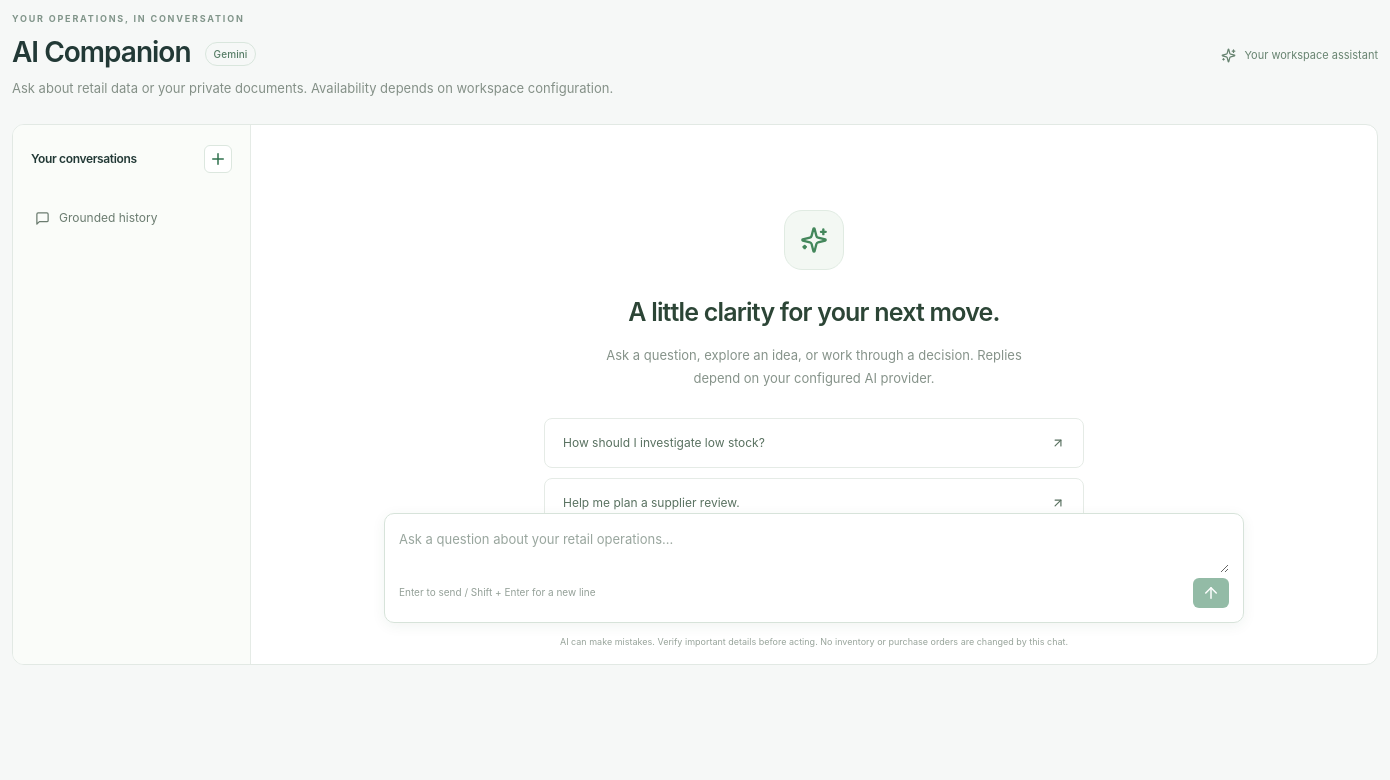
Test case: assistant stream recovery › renders persisted source excerpts and actual backend tool trace metadata
The image size is (1390, 780).
Click the button "Grounded history".
click(132, 218)  # box [25, 197, 238, 239]
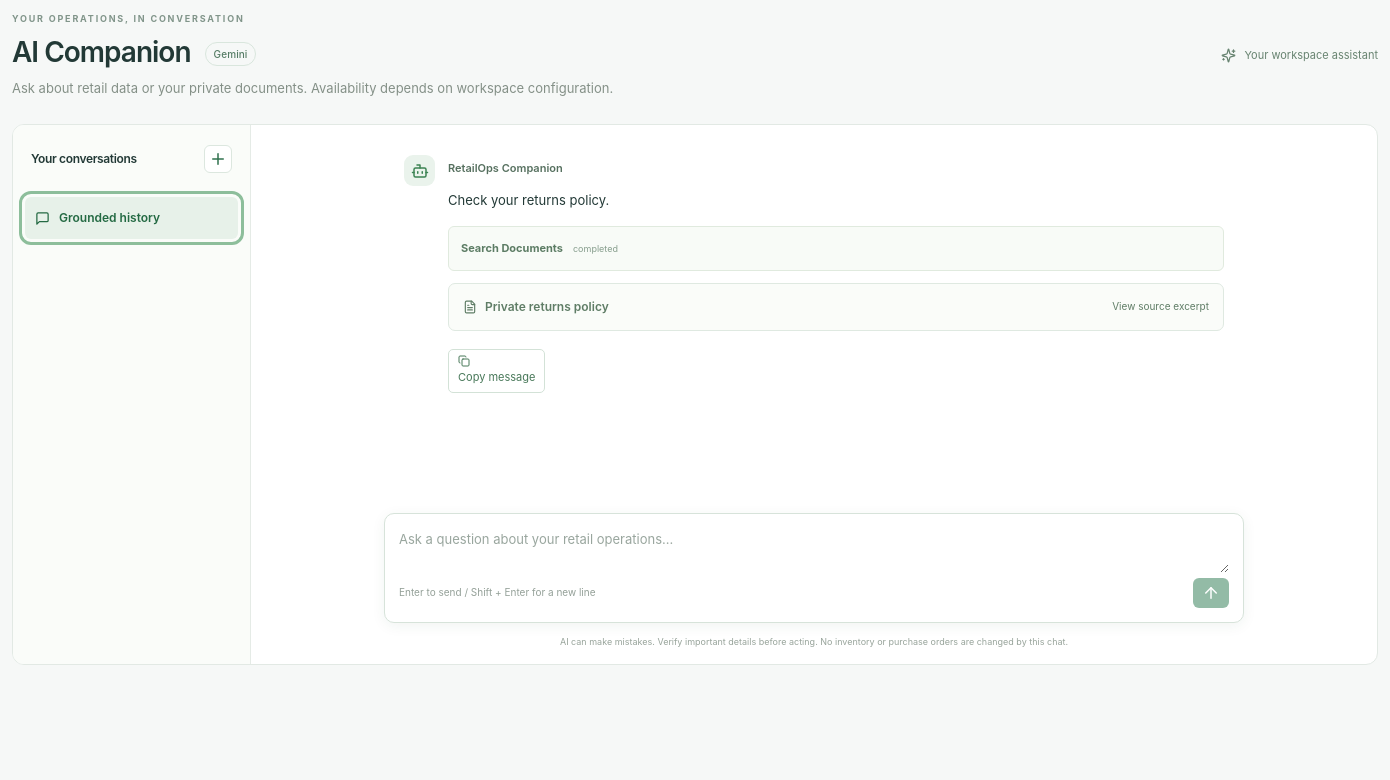
Expected: the text "search documents" is shown, [461, 241, 563, 255]
Click the text "Private returns policy".
click(547, 306)  # box [485, 299, 609, 314]
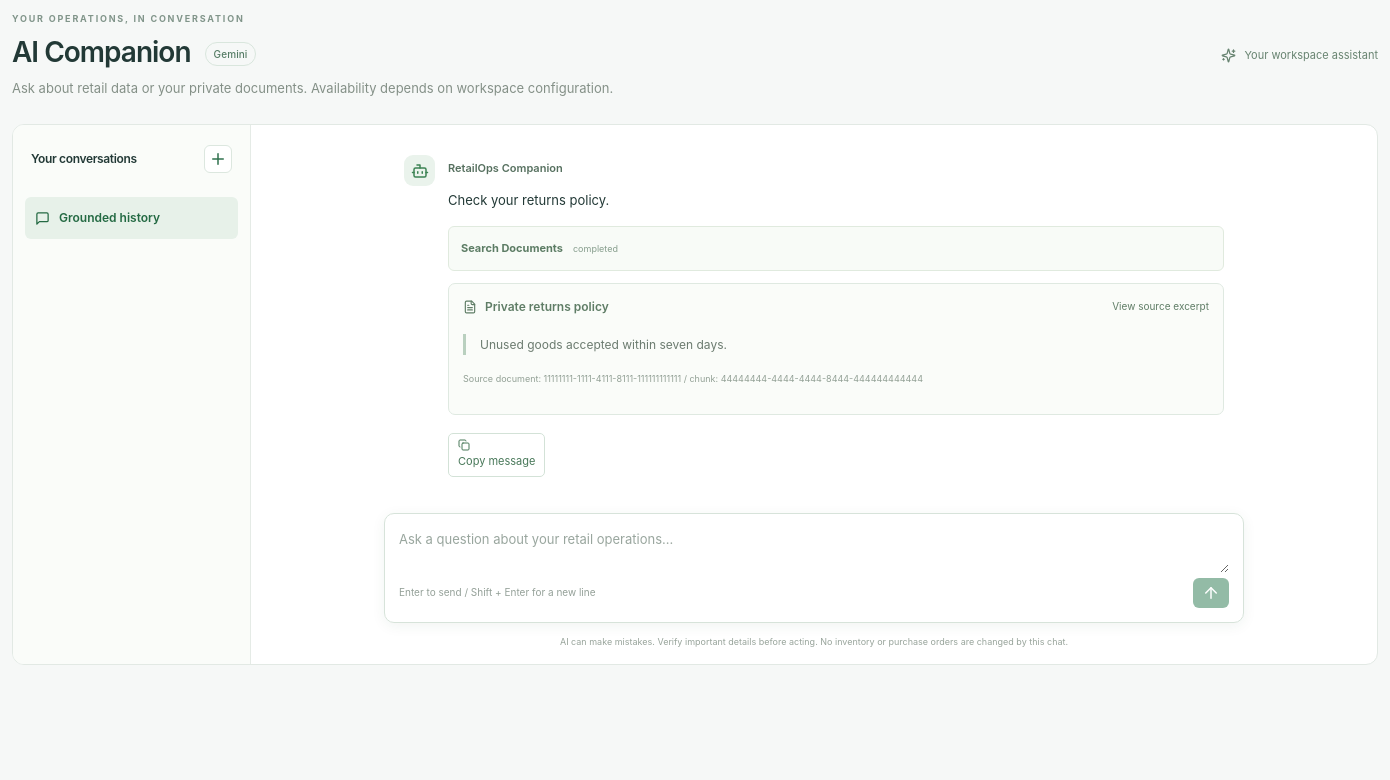
Expected: the text "Unused goods accepted within seven days." is shown, [463, 334, 1209, 355]
